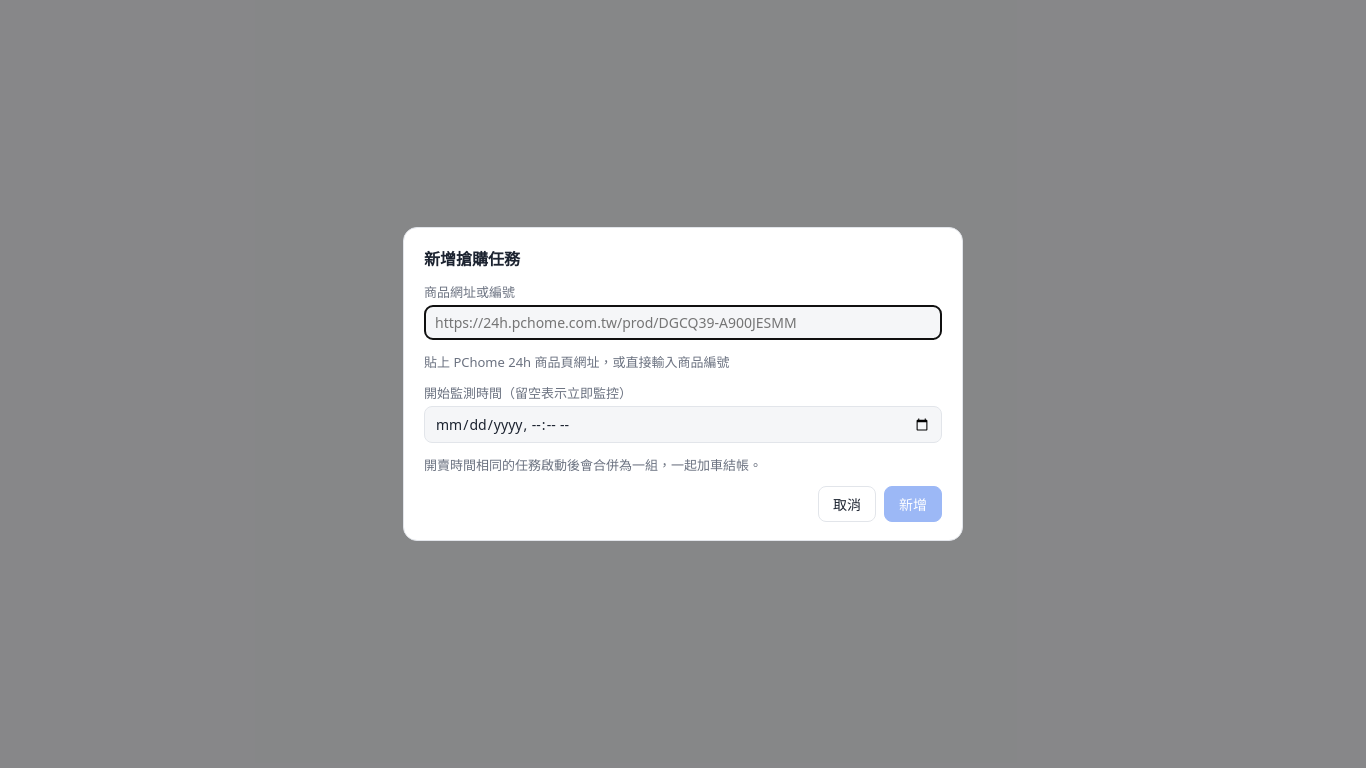
Scenario: AddProductDialog › shows an error hint and keeps submit disabled for unparseable input
In the field labelled "商品網址或編號": (683, 322) [424,305,942,340], type "not a valid ref"
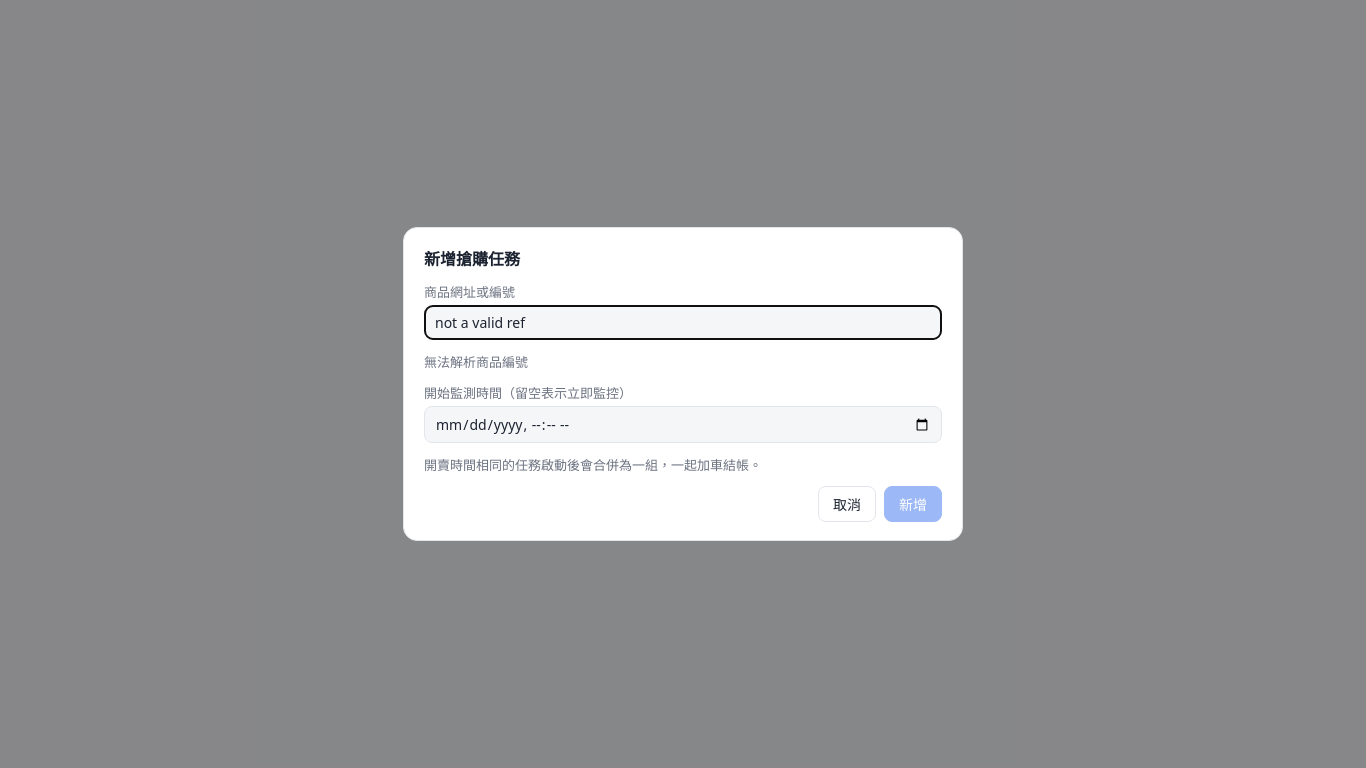
Check: the button "新增" is disabled, box [884,486,942,522]
Check: the text "無法解析商品編號" is shown, box [424,353,528,371]
